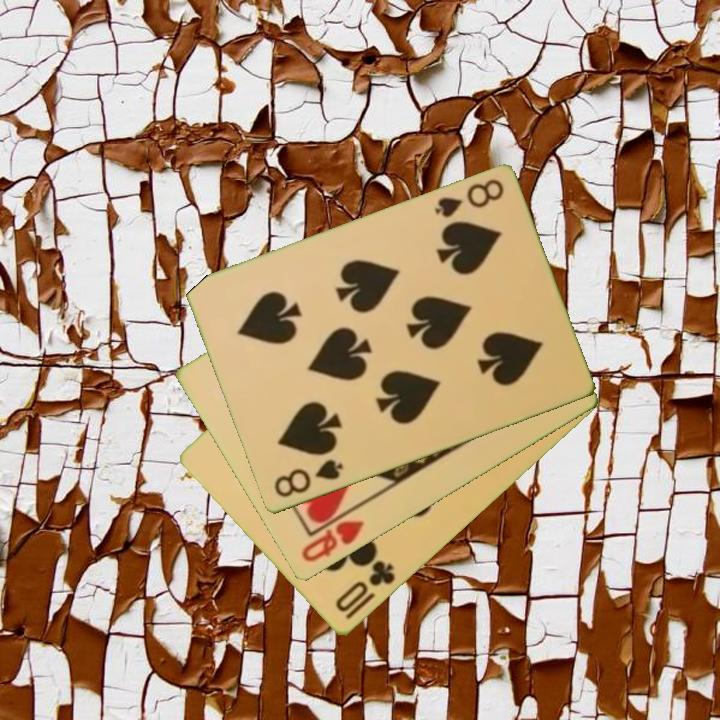10c: (332, 557, 398, 616)
8s: (430, 176, 507, 222), (270, 456, 346, 501)
Qh: (298, 504, 367, 566)
